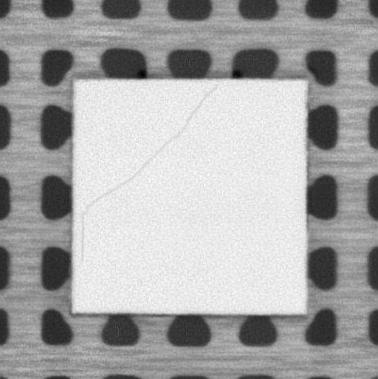DIE_CRACK: (79, 83, 222, 259)
